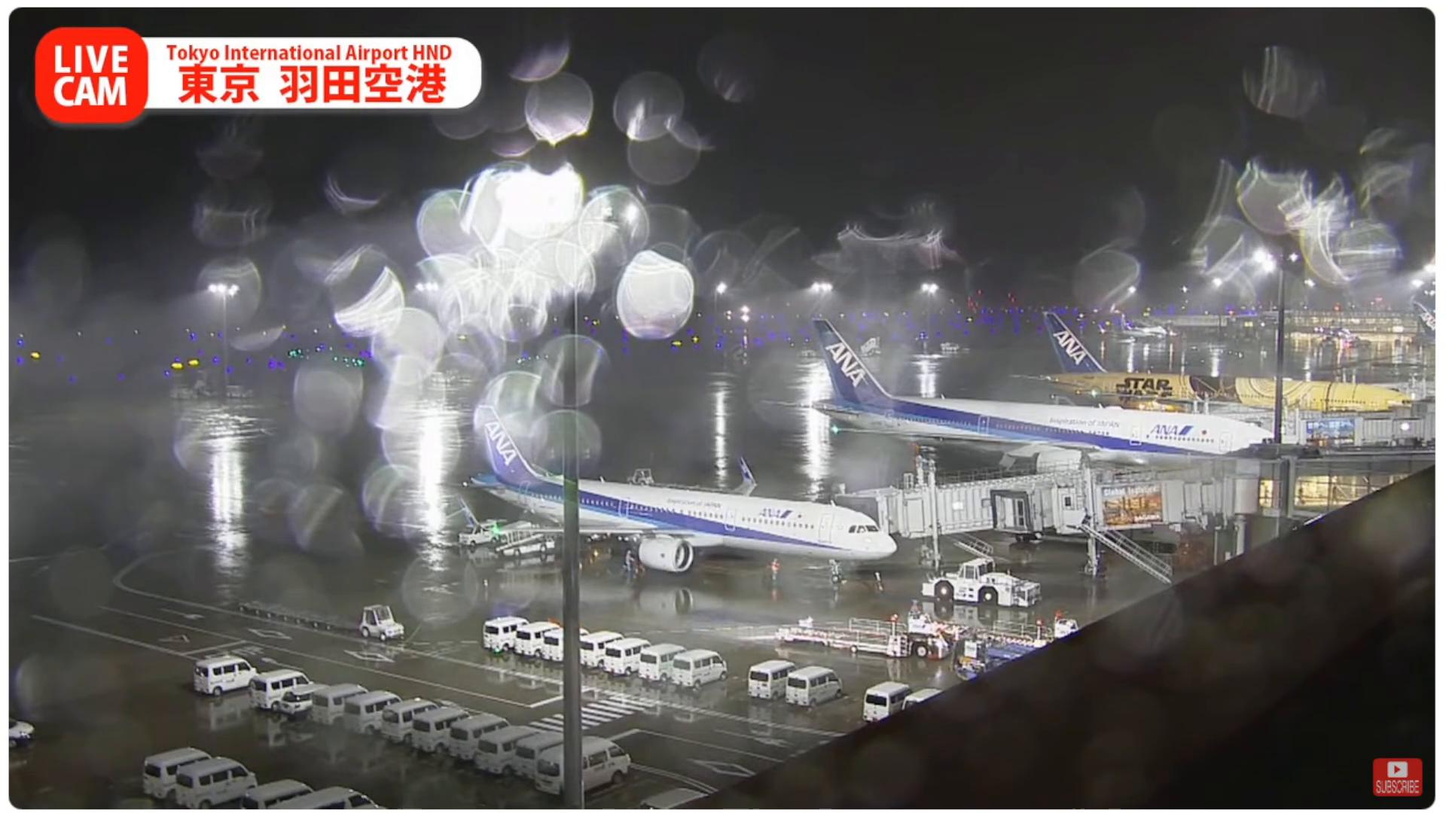APS: (920, 557, 1042, 611)
Aerobridge: (837, 461, 1193, 540), (988, 473, 1227, 539)
Airplane: (458, 404, 896, 584)
Dolly: (234, 602, 359, 636)
JCPL: (914, 611, 1086, 660), (796, 603, 945, 659)
Skyloader: (483, 513, 557, 558)
Tractor: (358, 604, 405, 643)
Window: (1289, 476, 1414, 509)
